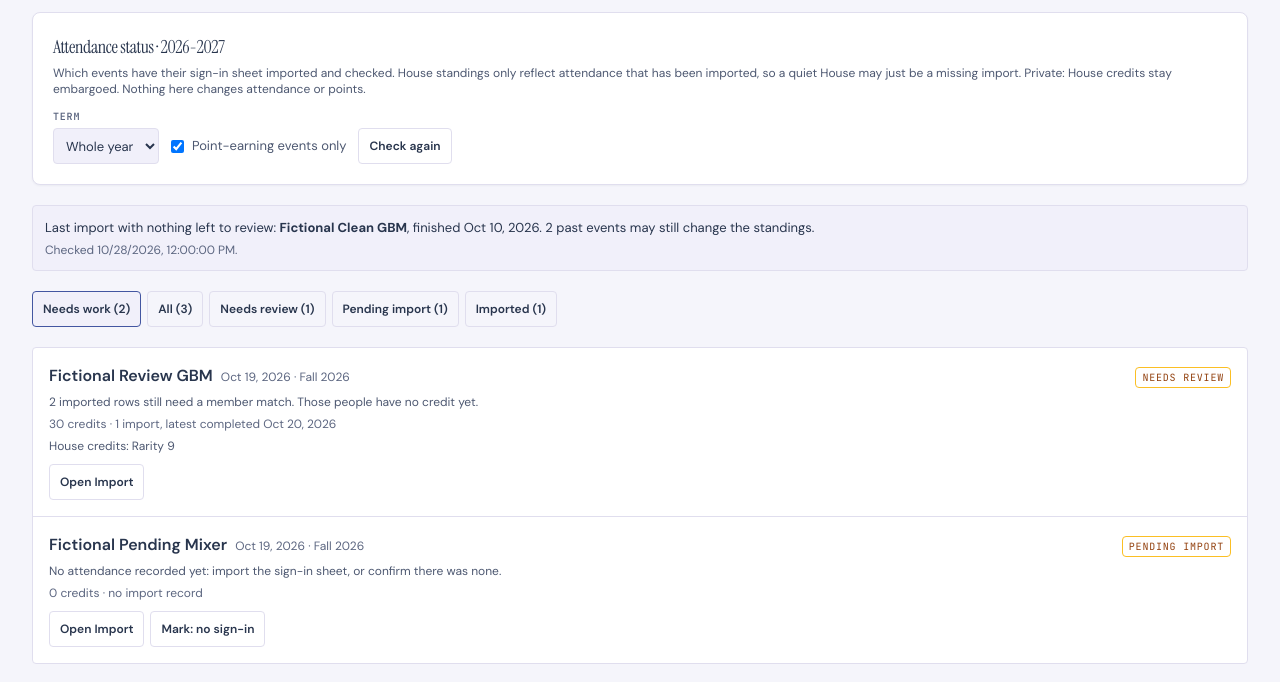
Test: can show every event, including clean ones
Click the button "All (3)".
click(175, 309)  # box x1=147 y1=291 x2=203 y2=327
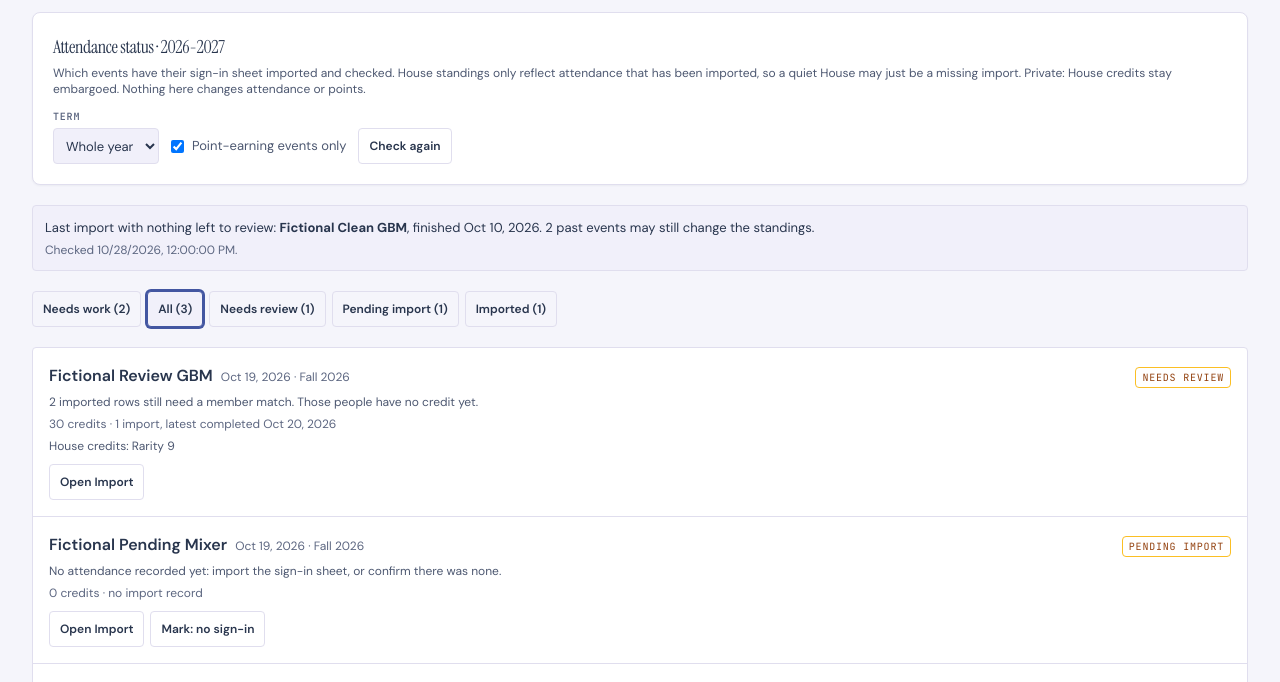
Click the checkbox labelled "Point-earning events only".
click(178, 146)  # box x1=171 y1=140 x2=184 y2=152
(page scrolled)
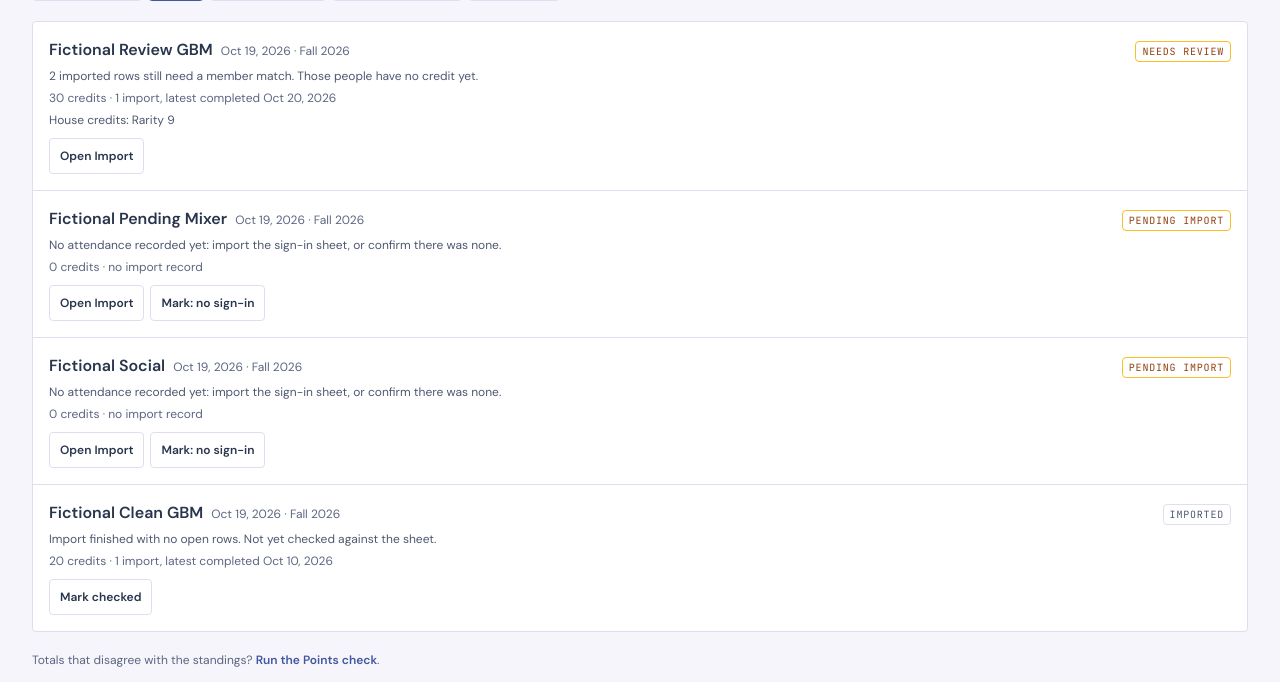
Expected: the text "Fictional Social" is shown, x1=49 y1=355 x2=165 y2=376
